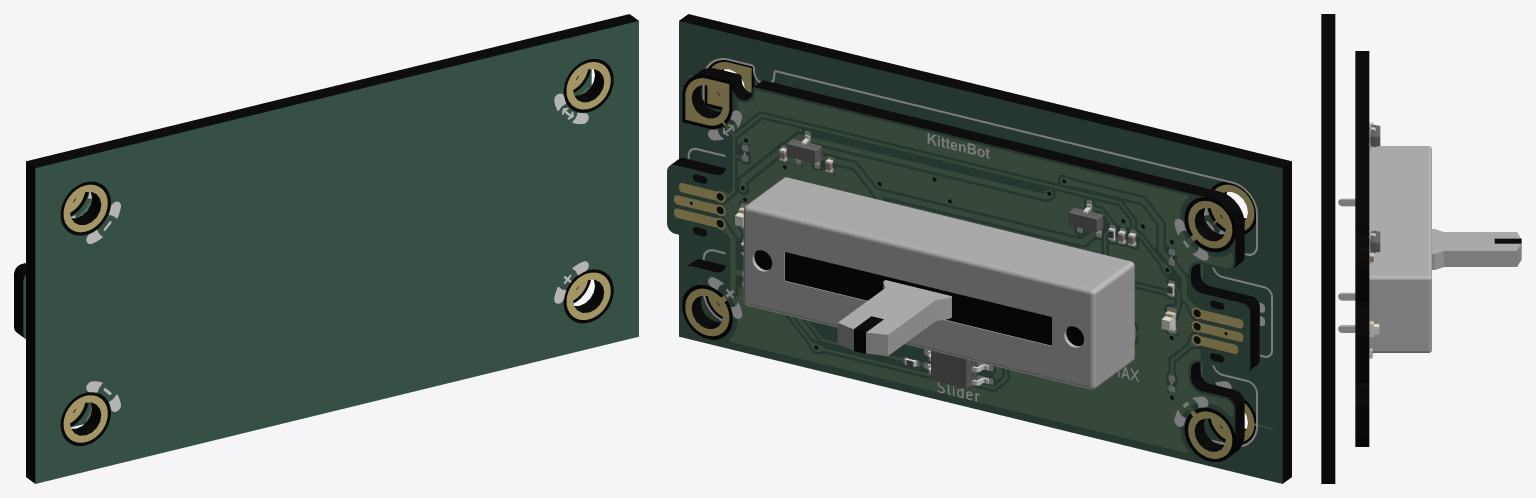
Rendered from ec30_5x2_lr_mh_0.1_slider.glb.
The picture shows the model from 3 angles, left to right: view 1: azimuth 30°, elevation 25°; view 2: azimuth 150°, elevation 25°; view 3: azimuth 270°, elevation 25°; orthographic projection. The views are drawn at different scales.
Parts seen in each view (by area): view 1: SHAPE_445_IndexedFaceSet, SHAPE_450_IndexedFaceSet, SHAPE_446_IndexedFaceSet, SHAPE_449_IndexedFaceSet, SHAPE_452_IndexedFaceSet, SHAPE_436_IndexedFaceSet, SHAPE_437_IndexedFaceSet, SHAPE_442_IndexedFaceSet; view 2: SHAPE_440_IndexedFaceSet, SHAPE_438_IndexedFaceSet, SHAPE_448_IndexedFaceSet, SHAPE_445_IndexedFaceSet, SHAPE_436_IndexedFaceSet, SHAPE_166_IndexedFaceSet, SHAPE_165_IndexedFaceSet, SHAPE_437_IndexedFaceSet, SHAPE_446_IndexedFaceSet, SHAPE_171_IndexedFaceSet, SHAPE_164_IndexedFaceSet, SHAPE_451_IndexedFaceSet (+8 smaller); view 3: SHAPE_165_IndexedFaceSet, SHAPE_446_IndexedFaceSet, SHAPE_437_IndexedFaceSet, SHAPE_162_IndexedFaceSet, SHAPE_220_IndexedFaceSet, SHAPE_212_IndexedFaceSet, SHAPE_184_IndexedFaceSet, SHAPE_187_IndexedFaceSet, SHAPE_185_IndexedFaceSet.
Part boxes in pixels (box(x1,y1,x2,y2)): SHAPE_445_IndexedFaceSet: box(36, 21, 638, 482); SHAPE_450_IndexedFaceSet: box(35, 21, 638, 483); SHAPE_446_IndexedFaceSet: box(26, 14, 638, 483); SHAPE_449_IndexedFaceSet: box(63, 62, 610, 442); SHAPE_452_IndexedFaceSet: box(86, 93, 588, 411); SHAPE_436_IndexedFaceSet: box(23, 69, 590, 426); SHAPE_437_IndexedFaceSet: box(14, 76, 578, 412); SHAPE_442_IndexedFaceSet: box(23, 69, 591, 427); SHAPE_440_IndexedFaceSet: box(667, 87, 1250, 460); SHAPE_438_IndexedFaceSet: box(674, 78, 1243, 458); SHAPE_448_IndexedFaceSet: box(679, 21, 1282, 483); SHAPE_445_IndexedFaceSet: box(679, 21, 1281, 482); SHAPE_436_IndexedFaceSet: box(667, 75, 1250, 461); SHAPE_166_IndexedFaceSet: box(746, 211, 1089, 386); SHAPE_165_IndexedFaceSet: box(749, 177, 1130, 289); SHAPE_437_IndexedFaceSet: box(671, 68, 1259, 456); SHAPE_446_IndexedFaceSet: box(679, 14, 1291, 483); SHAPE_171_IndexedFaceSet: box(785, 252, 1051, 345); SHAPE_164_IndexedFaceSet: box(1096, 267, 1134, 385); SHAPE_451_IndexedFaceSet: box(687, 58, 1272, 446); SHAPE_165_IndexedFaceSet: box(1369, 146, 1428, 275); SHAPE_446_IndexedFaceSet: box(1321, 14, 1335, 483); SHAPE_437_IndexedFaceSet: box(1355, 51, 1369, 446); SHAPE_162_IndexedFaceSet: box(1369, 280, 1428, 350); SHAPE_220_IndexedFaceSet: box(1432, 229, 1520, 253); SHAPE_212_IndexedFaceSet: box(1443, 251, 1516, 266); SHAPE_184_IndexedFaceSet: box(1428, 146, 1431, 277); SHAPE_187_IndexedFaceSet: box(1369, 275, 1428, 280); SHAPE_185_IndexedFaceSet: box(1428, 279, 1431, 350).
Size of the model in its own units: 60 by 30 by 22.48.
